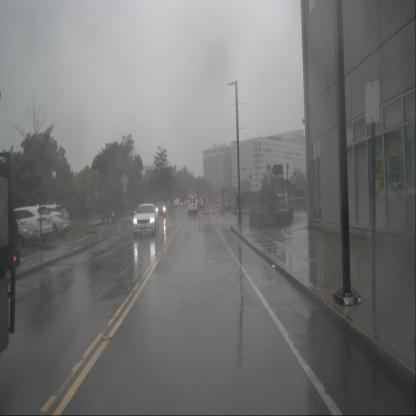movable_object-barrier: (235, 204, 251, 214)
movable_object-trafficcone: (232, 202, 236, 214), (220, 204, 224, 215), (204, 205, 208, 216), (304, 197, 307, 211), (212, 204, 214, 215)
vehicle-car: (1, 206, 53, 244), (23, 204, 71, 242), (0, 217, 41, 251), (378, 182, 416, 212), (133, 204, 159, 235), (155, 201, 166, 217), (173, 198, 180, 206), (196, 200, 202, 209)
vehicle-truck: (188, 196, 198, 215)
